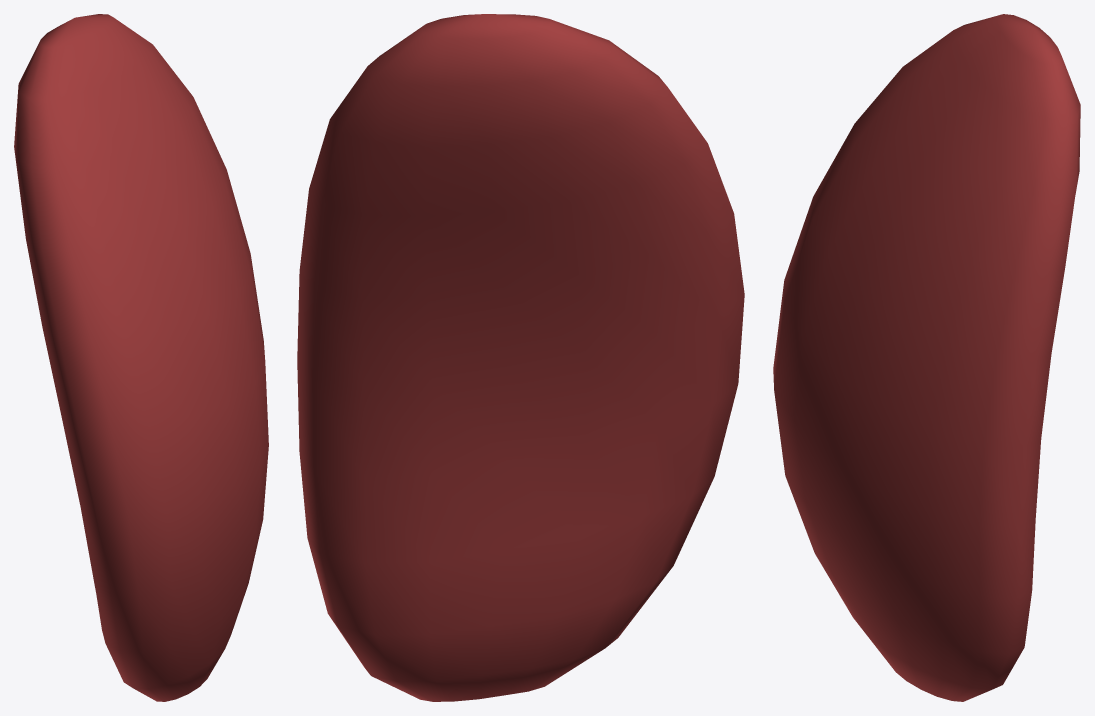
Rendered from bicipitoradial-bursa-r.glb.
3 views of the same model, side by side, from view 1: azimuth 30°, elevation 25°; view 2: azimuth 150°, elevation 25°; view 3: azimuth 270°, elevation 25° (orthographic). The views are drawn at different scales.
Visible parts, largest first — view 1: Bicipitoradial bursa.r; view 2: Bicipitoradial bursa.r; view 3: Bicipitoradial bursa.r.
Boxes of the visible parts, x1,y1,x2,y2 form: Bicipitoradial bursa.r: (14, 14, 268, 701); Bicipitoradial bursa.r: (297, 14, 744, 701); Bicipitoradial bursa.r: (773, 14, 1080, 701).
Bounding box in the file's own units: 0.00709 × 0.0154 × 0.00675.
